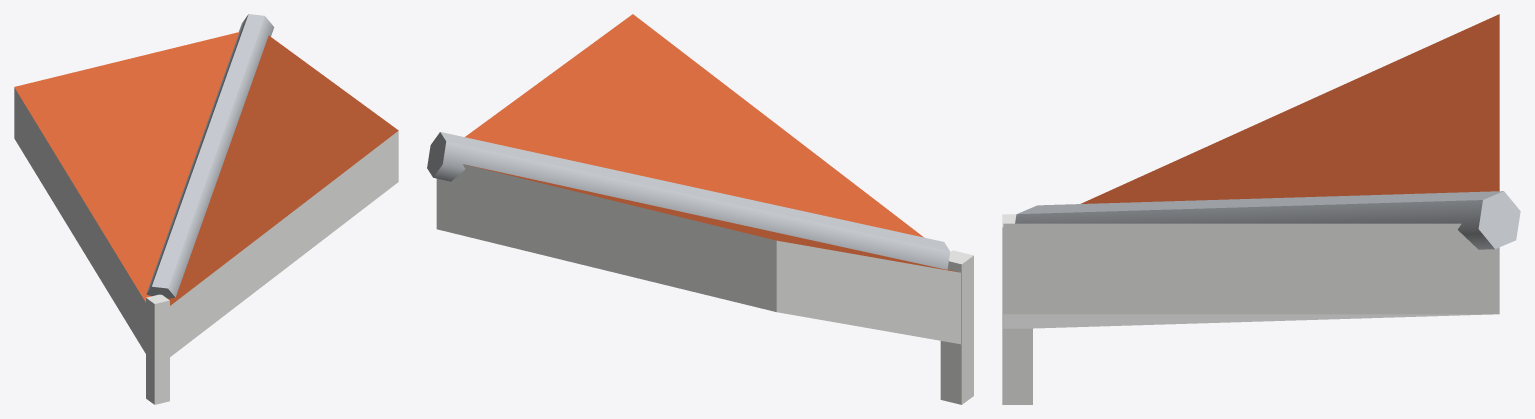
Rendered from telhado_beiral_canto_interno_i50.glb.
The picture shows the model from 3 angles, left to right: view 1: azimuth 30°, elevation 25°; view 2: azimuth 150°, elevation 25°; view 3: azimuth 270°, elevation 25°; orthographic projection. The views are drawn at different scales.
Visible parts, largest first — view 1: telhado_beiral_canto_interno_i50; view 2: telhado_beiral_canto_interno_i50; view 3: telhado_beiral_canto_interno_i50.
Boxes of the visible parts, x1=… form: telhado_beiral_canto_interno_i50: x1=14, y1=14, x2=398, y2=404; telhado_beiral_canto_interno_i50: x1=427, y1=14, x2=973, y2=404; telhado_beiral_canto_interno_i50: x1=1002, y1=14, x2=1520, y2=404.
Size of the model in its own units: 0.5222 by 0.4491 by 0.5222.
3 materials, 1 textured.
